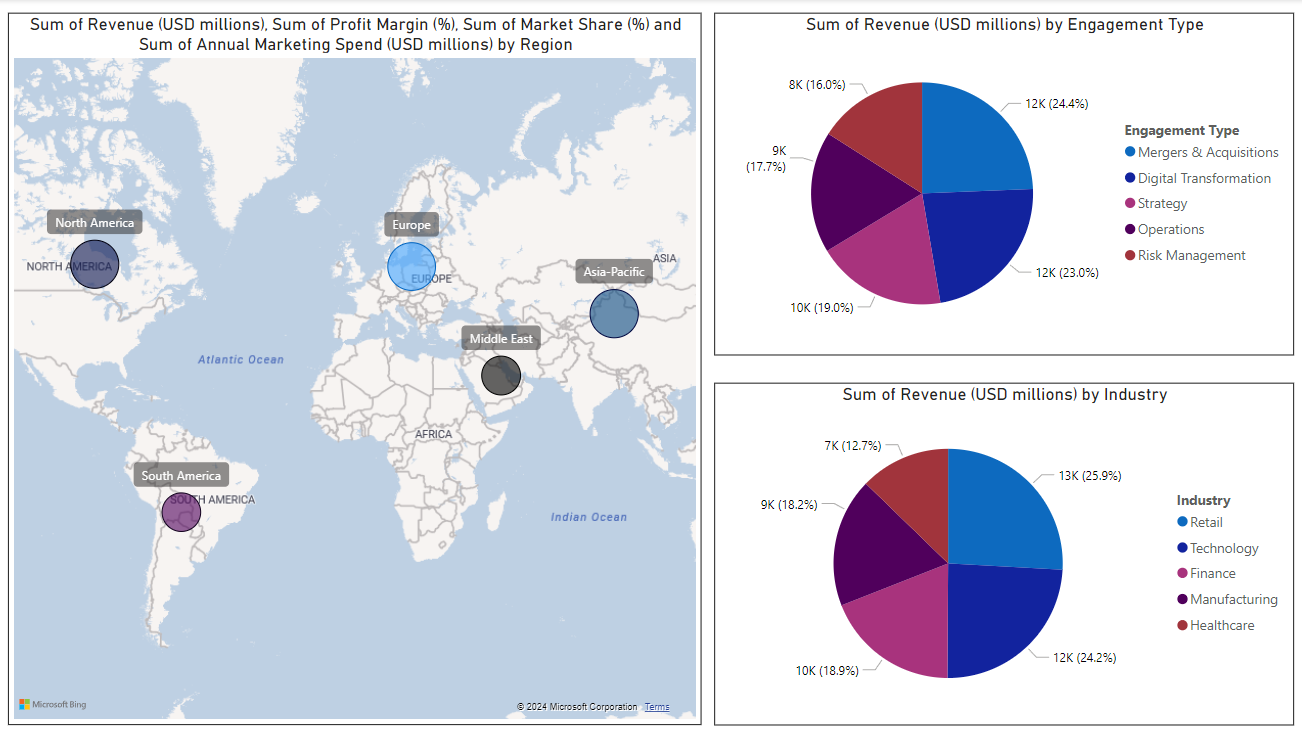

What the dashboard file says about the page in this screenshot:
{"tool":"powerbi","page":{"name":"Page 3","canvas":[1280,720],"ordinal":2},"visuals":[{"type":"map","fields":{"Size":["Sum(consulting_analysis_extended_dataset.Revenue (USD millions))"],"Category":["consulting_analysis_extended_dataset.Region"]},"box":[9.8,13.5,678.7,697],"z":0},{"type":"pieChart","fields":{"Category":["consulting_analysis_extended_dataset.Industry"],"Y":["Sum(consulting_analysis_extended_dataset.Revenue (USD millions))"]},"box":[700.7,375.4,567.4,335.1],"z":1000},{"type":"pieChart","fields":{"Y":["Sum(consulting_analysis_extended_dataset.Revenue (USD millions))"],"Category":["consulting_analysis_extended_dataset.Engagement Type"]},"box":[700.7,13.5,567.4,335.1],"z":2000}]}

Visuals, with their boxes in screenshot pixels (x1, y1, x2, y2), scaled from the page's 1280x720 canvas onto the 1302x730 screenshot:
map - Sum(consulting_analysis_extended_dataset.Revenue (USD millions)) x consulting_analysis_extended_dataset.Region: bbox(10, 14, 700, 720)
pieChart - consulting_analysis_extended_dataset.Industry x Sum(consulting_analysis_extended_dataset.Revenue (USD millions)): bbox(713, 381, 1290, 720)
pieChart - Sum(consulting_analysis_extended_dataset.Revenue (USD millions)) x consulting_analysis_extended_dataset.Engagement Type: bbox(713, 14, 1290, 353)
